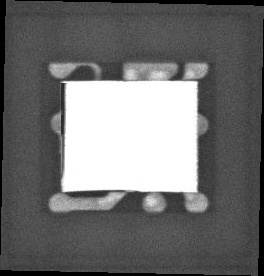DIE_BROKEN: (57, 80, 66, 180)
